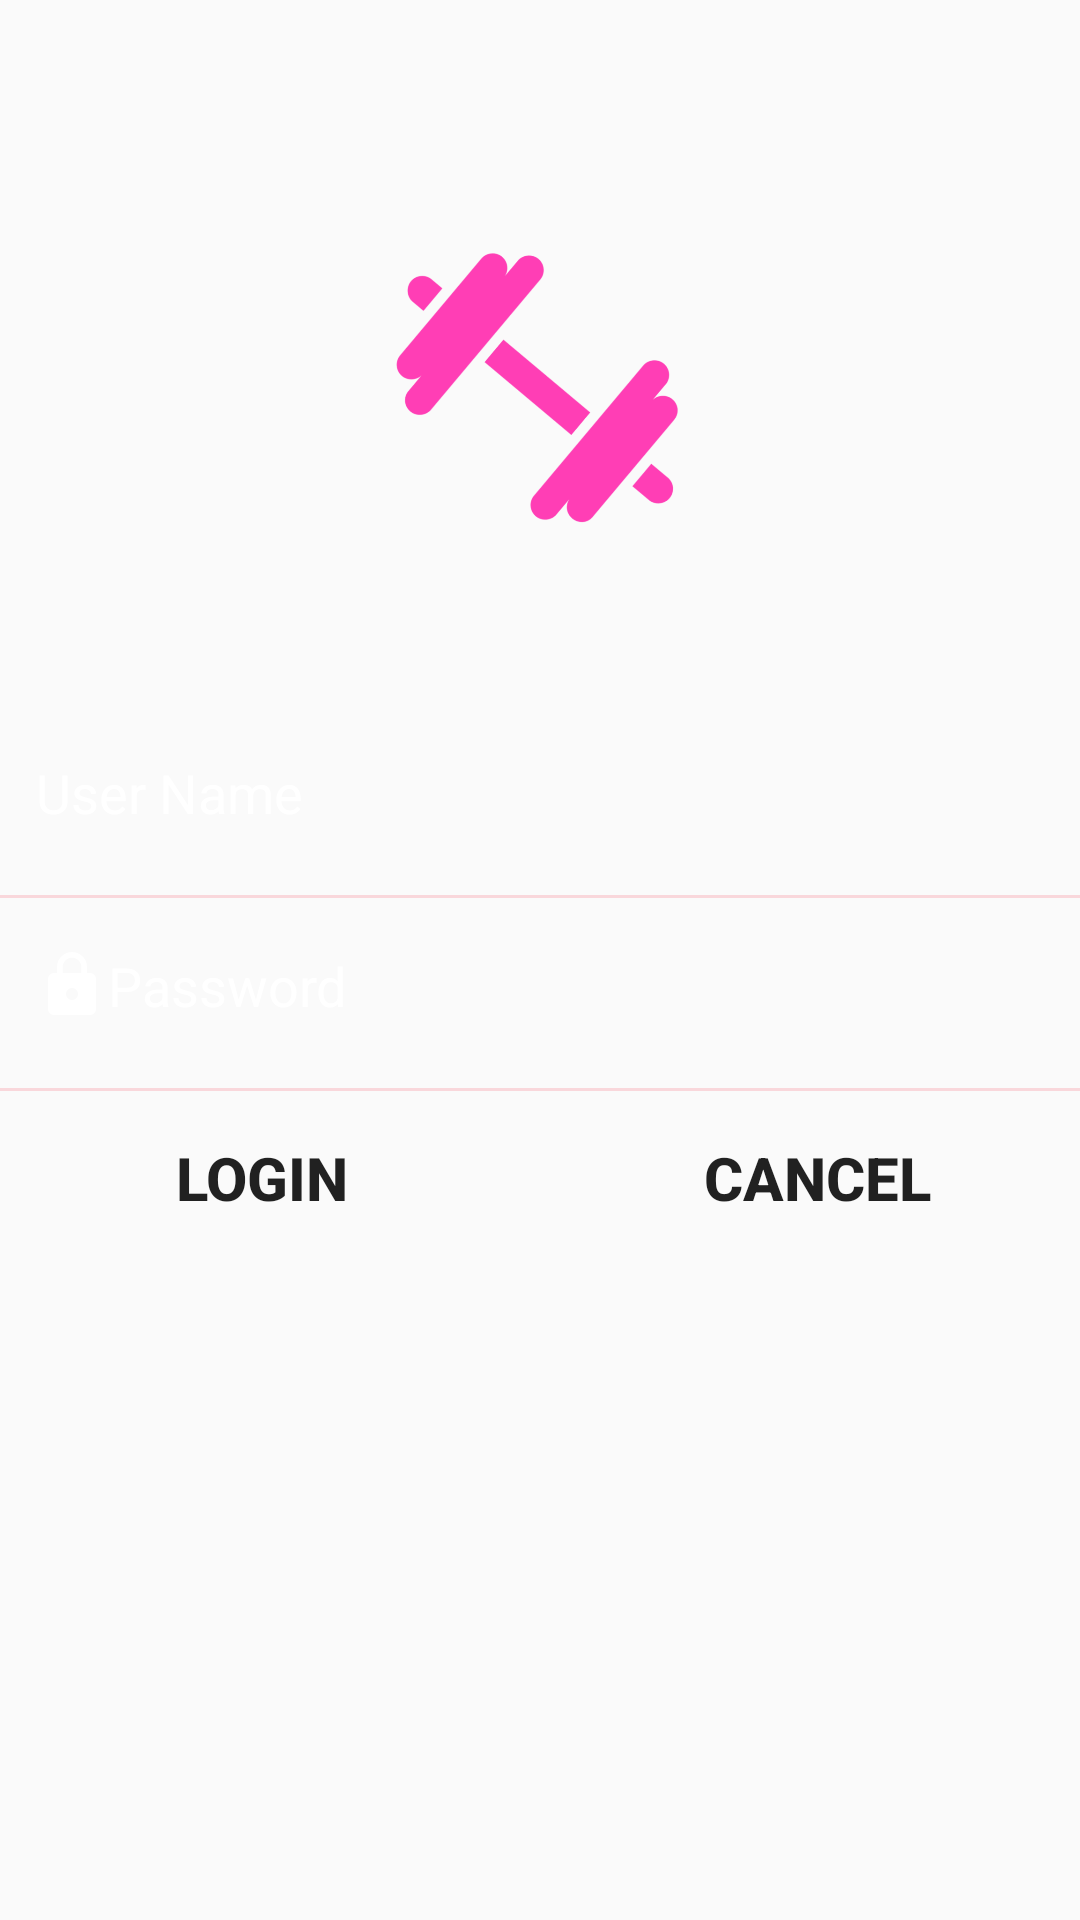

Icon click points for this 1080 x 1920 phone screenshot, format (x,y):
gym: (537,387)
